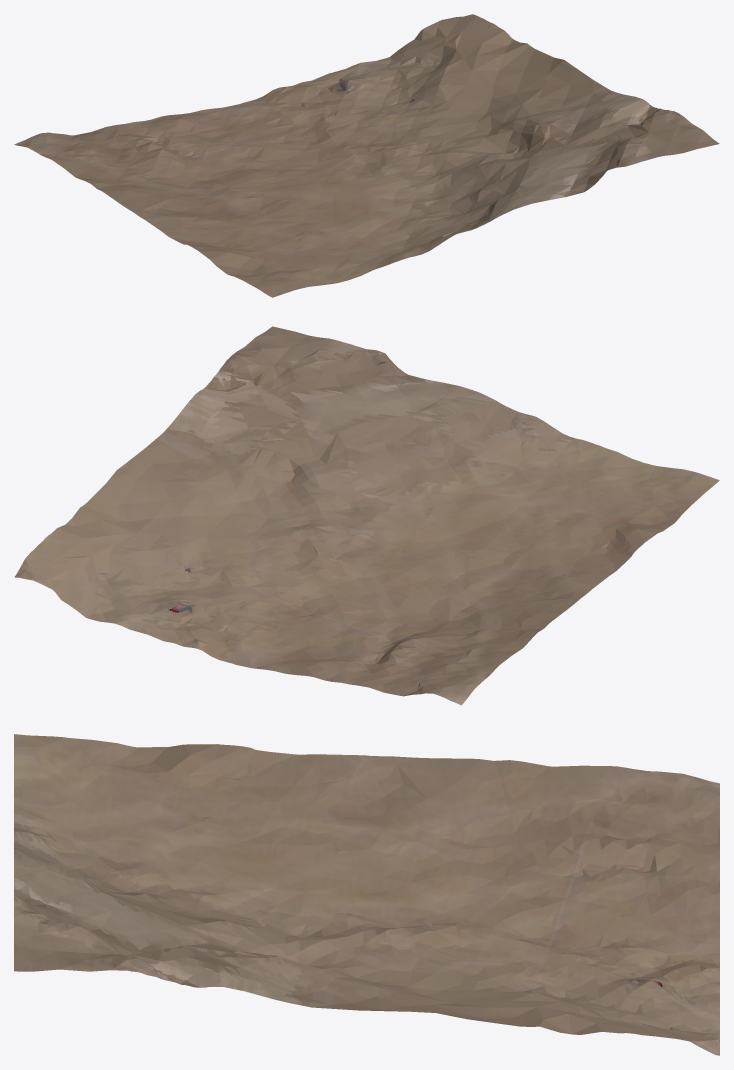
The picture shows the model from 3 angles, top to bottom: view 1: azimuth 30°, elevation 25°; view 2: azimuth 150°, elevation 25°; view 3: azimuth 270°, elevation 25°; orthographic projection. The views are drawn at different scales.
Bounding box in the file's own units: 1.04 × 0.2177 × 1.04.
Materials: 2 (2 with a texture image).
